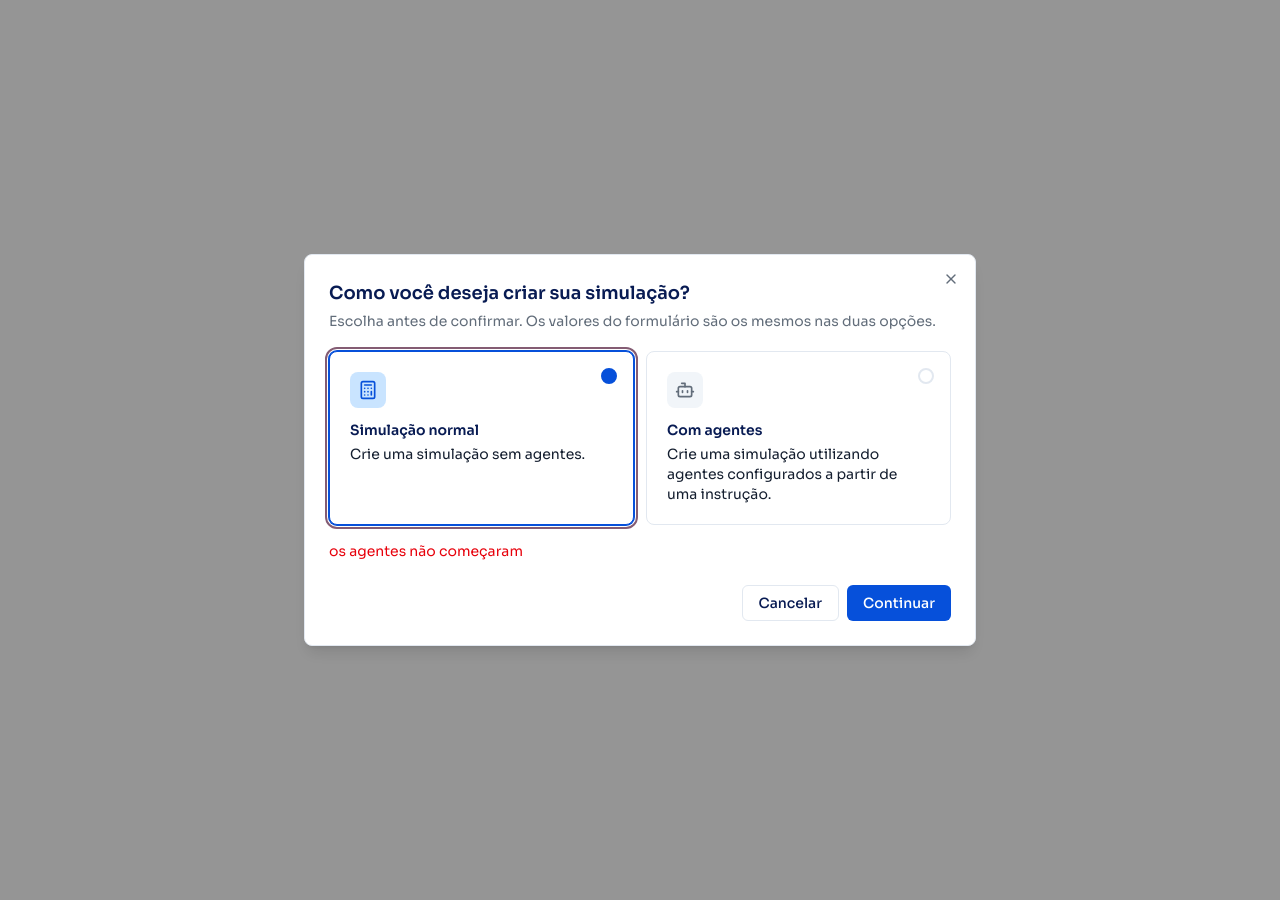
Test case: creation mode dialog › once the simulation was saved, shows the error and does not let it be created again
Click the button "Continuar": (899, 603) [847,585,951,621]
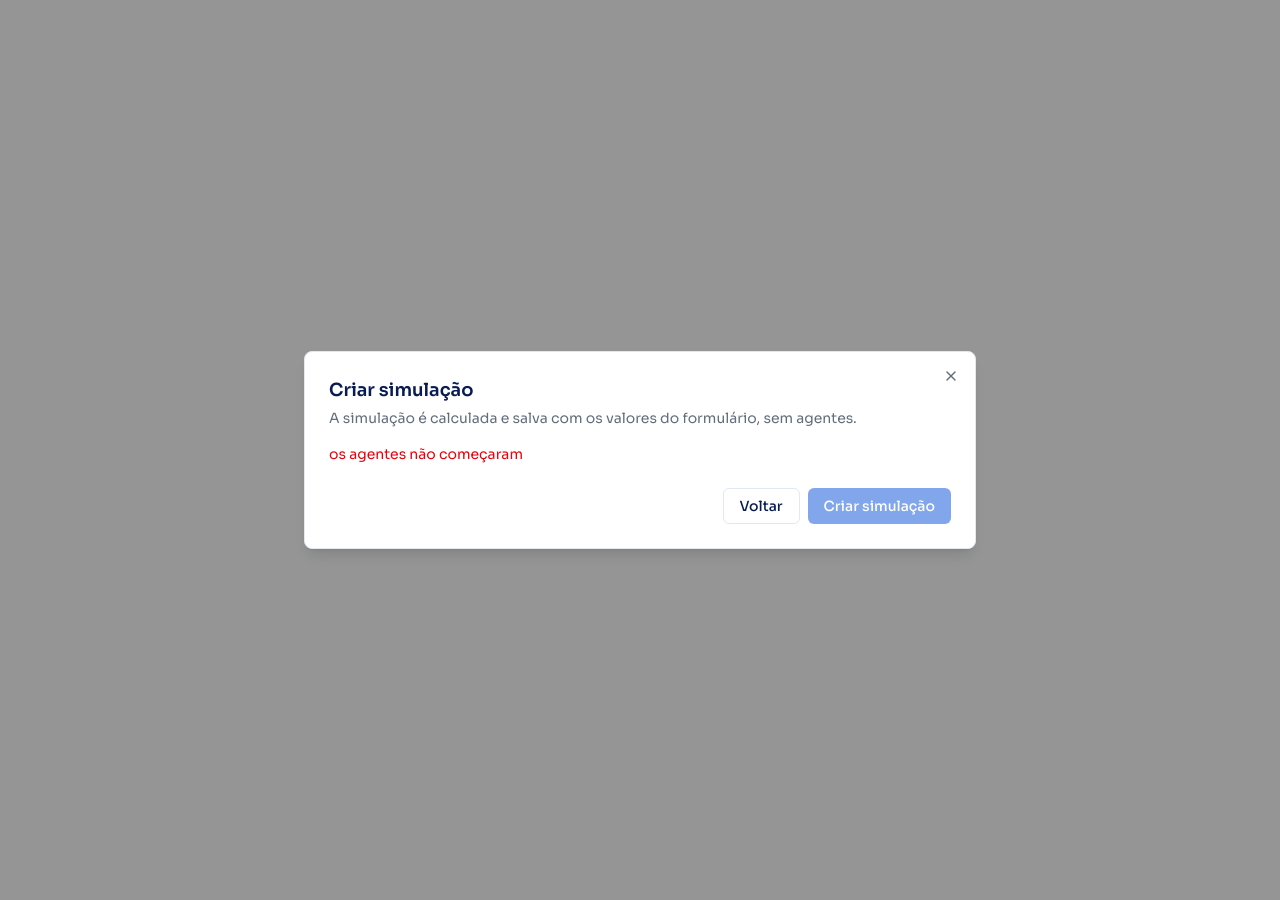
Expected: the message reads "os agentes não começaram", [329,445,523,463]
Expected: the button "Criar simulação" is disabled, [808,488,951,524]
